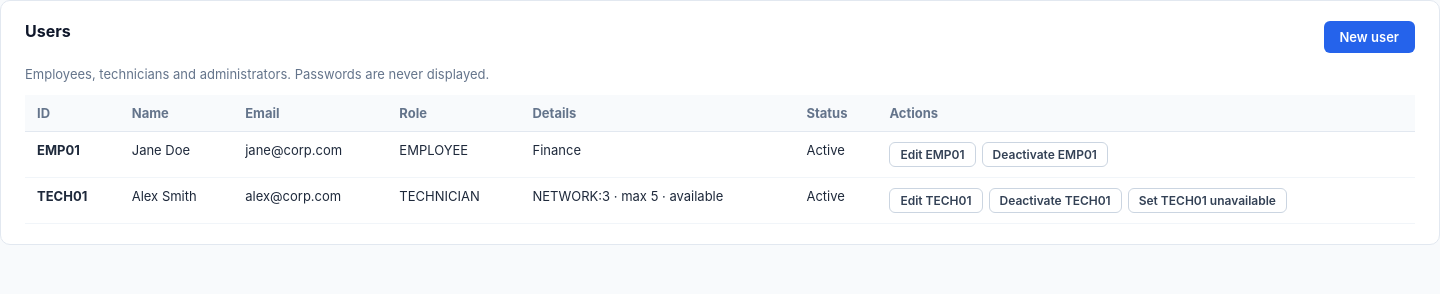
Test: UsersPanel › deactivates a user through the backend
What coordinates should you click on to do the following:
click the button "Deactivate EMP01"
I would click on:
 (1045, 154)
Its box is [982,142,1108,167].
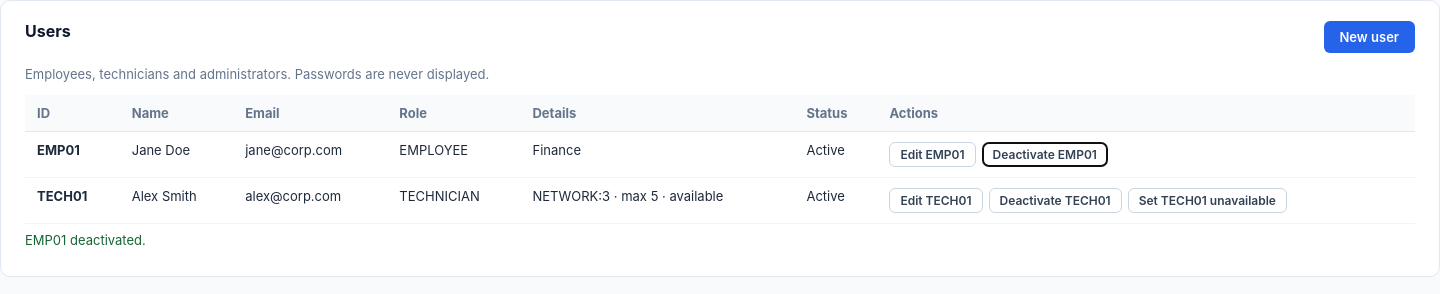
Expected: the message shows "EMP01 deactivated", [25,232,146,248]
